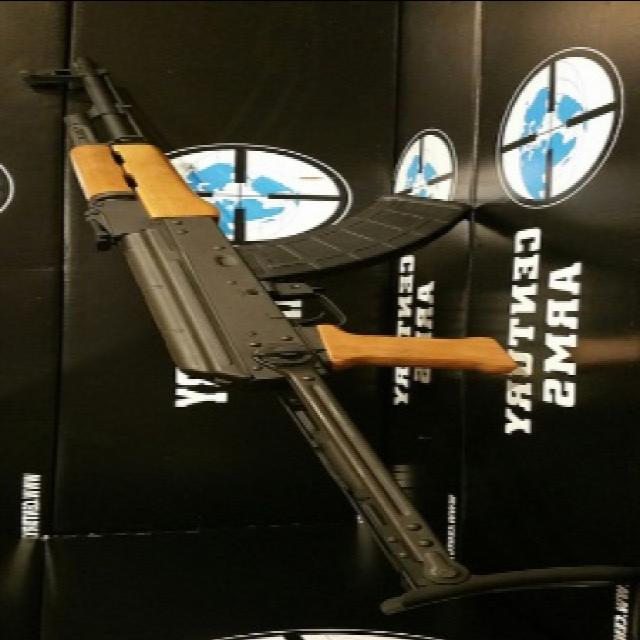rifle: (7, 45, 482, 625)
